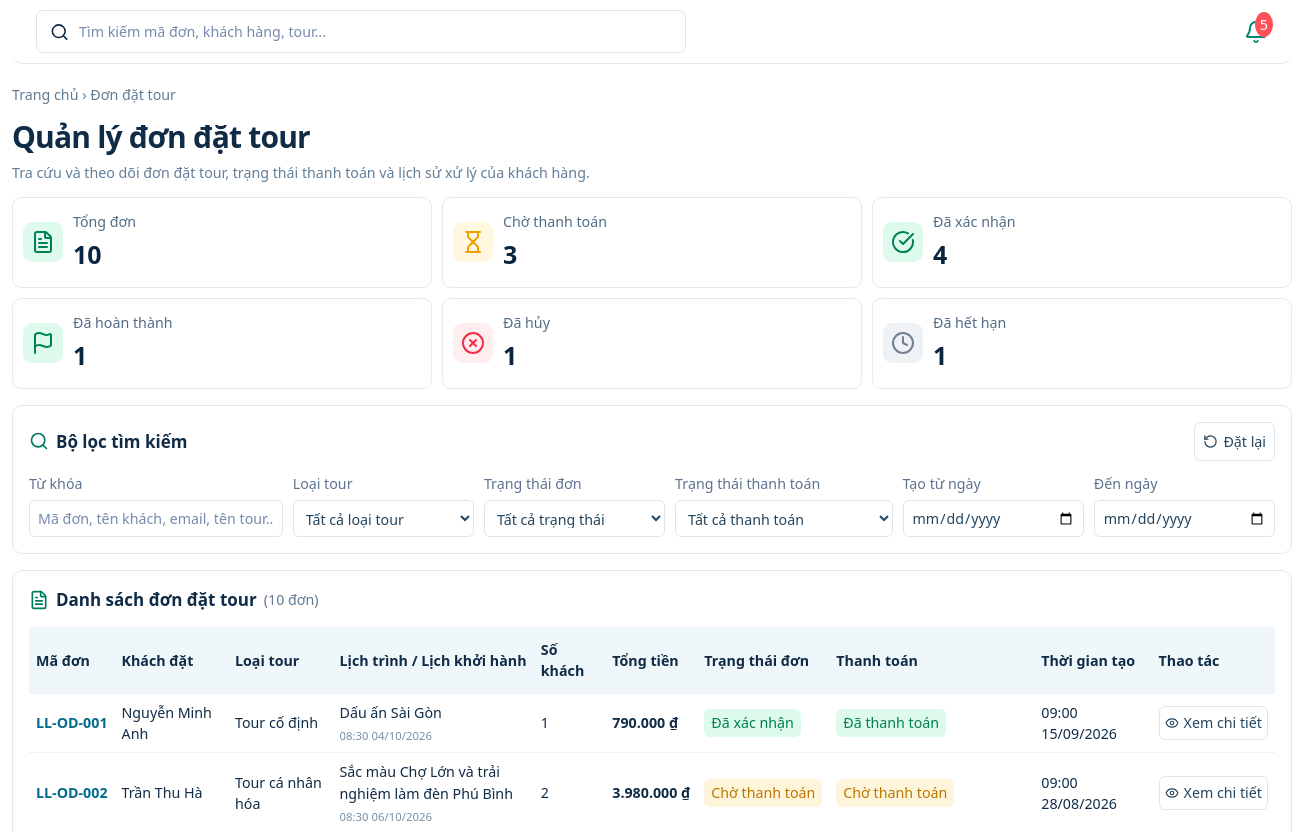
Test: shows an empty result and resets filters
expect the button with aria-label "Xem chi tiết LL-OD-001" is shown: met, box [1159,706,1268,740]
In the field labelled "Từ khóa": (156, 519) [29,500,283,537], type "khong-co-don-nay"
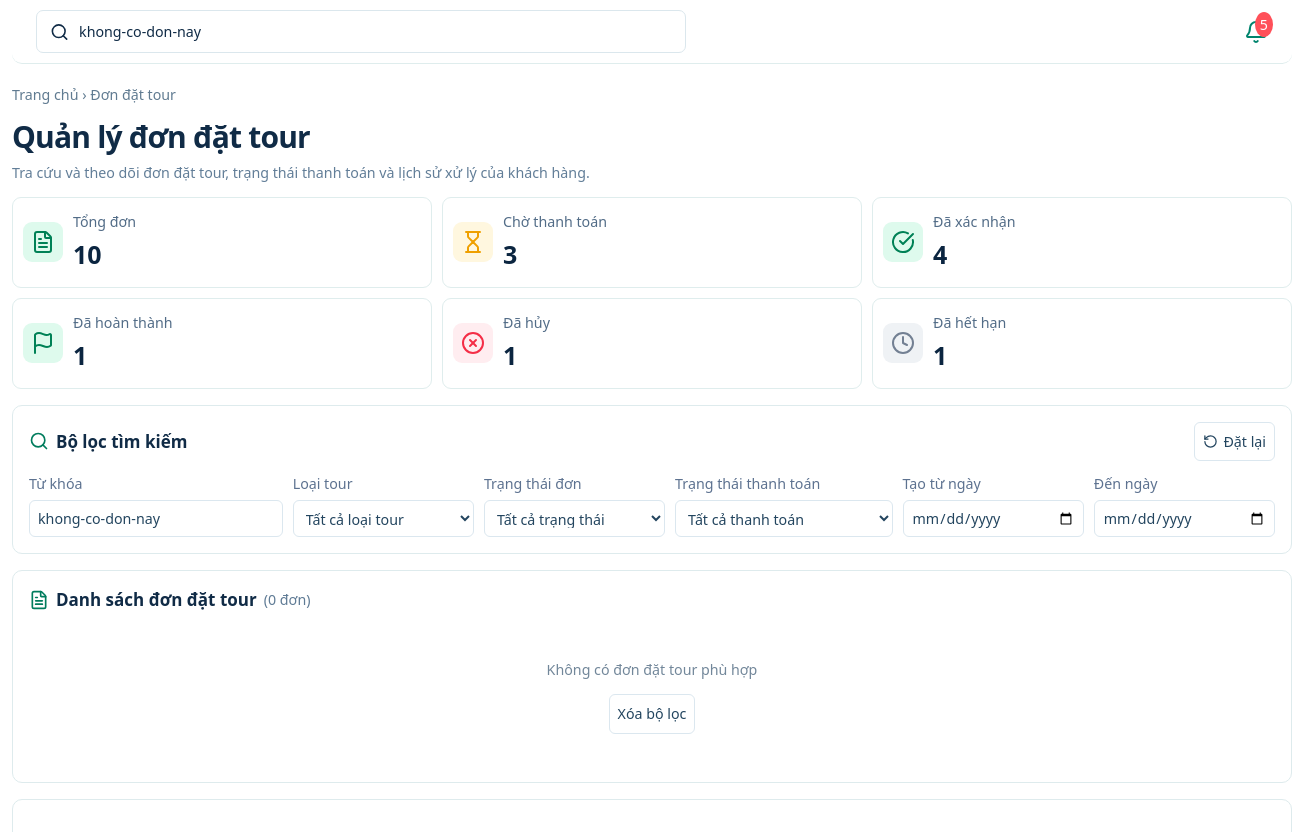
expect the text "Không có đơn đặt tour phù hợp" is shown: met, box [547,660,757,679]
Click the button "Xóa bộ lọc": (652, 714) [609,694,695,734]
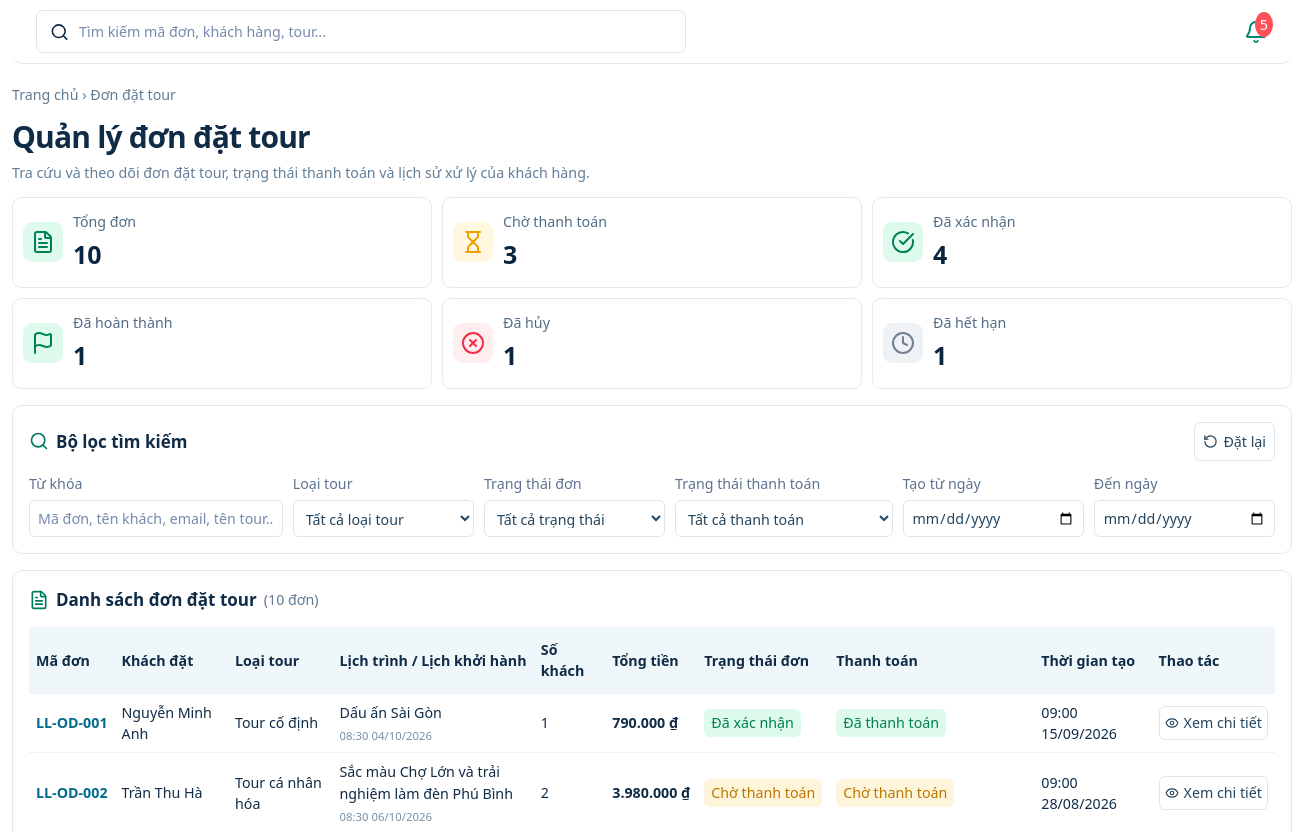
expect the button with aria-label "Xem chi tiết LL-OD-001" is shown: met, box [1159,706,1268,740]
